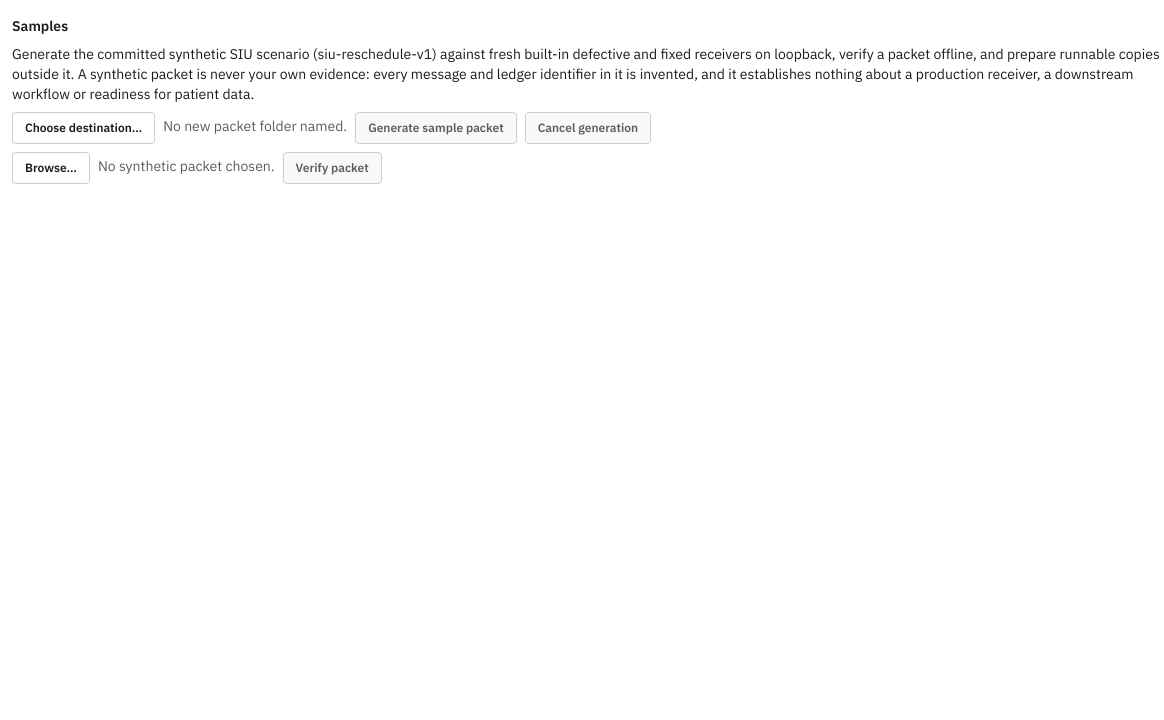
it: a chosen packet is verified read-only, and a changed or unsupported one is refused by name with nothing to prepare
expect the button "Verify packet" is disabled: met, box [283,152,382,184]
expect the text "No synthetic packet chosen." is shown: met, box [98,156,275,176]
Click the button "Browse…" at [51, 168], box [12,152,90,184]
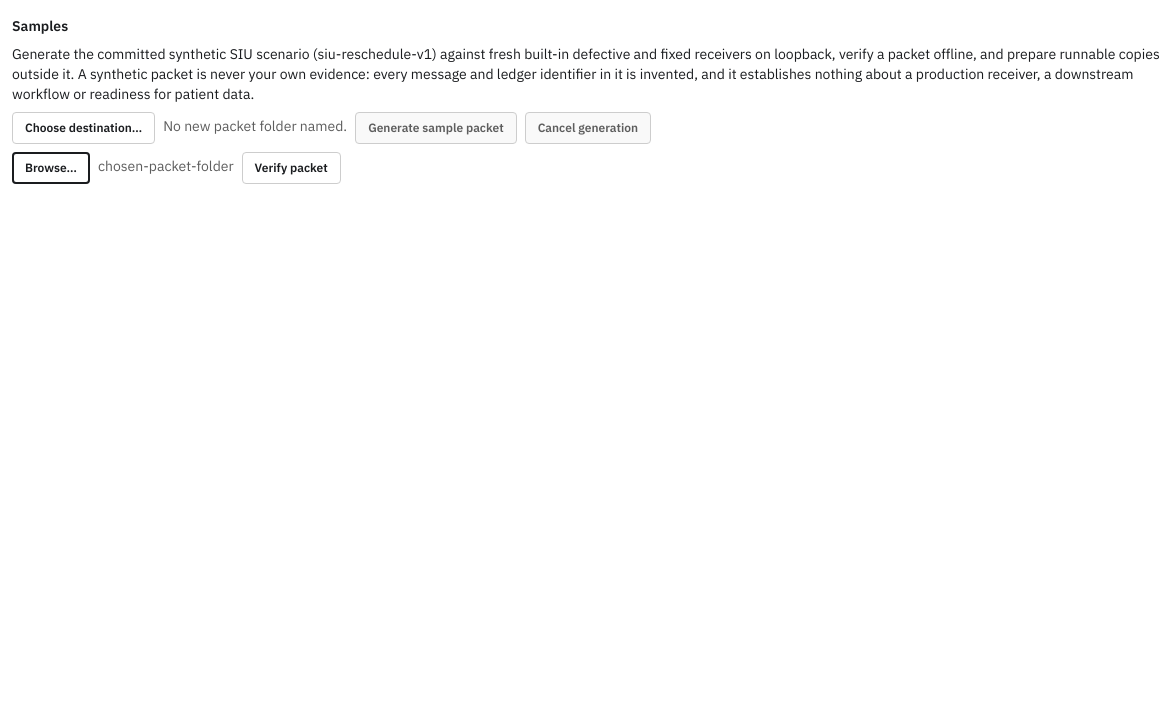
expect the text "chosen-packet-folder" is shown: met, box [98,156,234,176]
Click the button "Verify packet" at [291, 168], box [242,152,341,184]
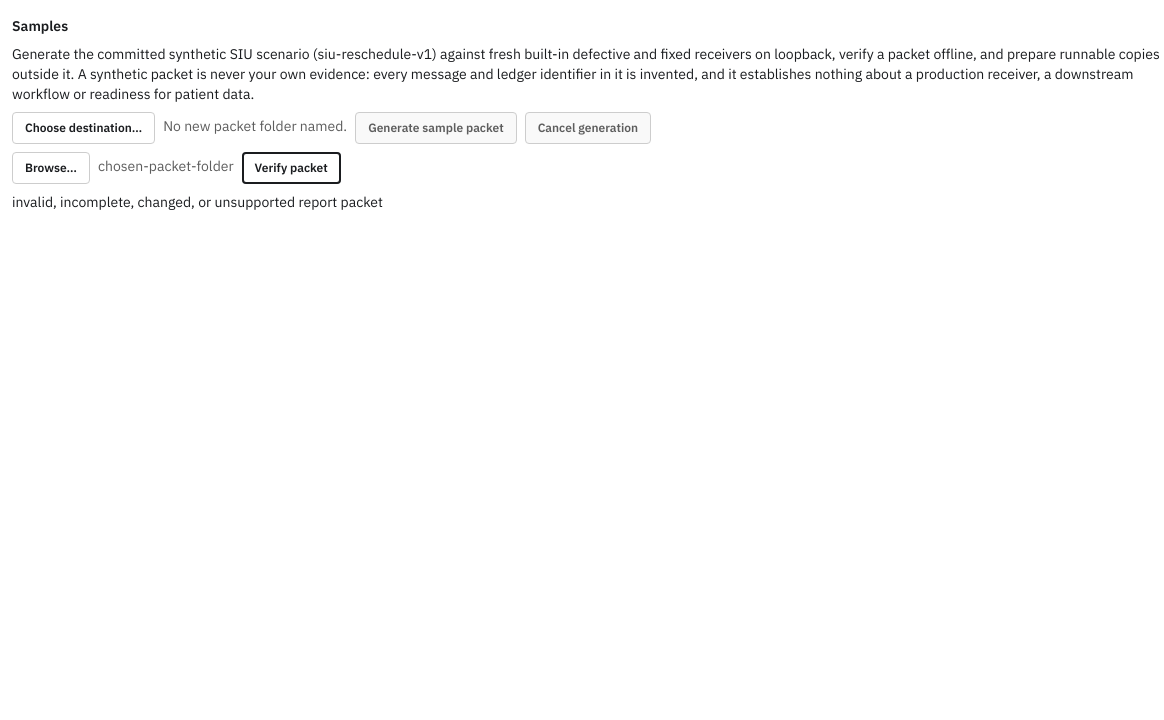
expect the text "Verified:" is not shown: met
expect the text "invalid, incomplete, changed, or unsupported report packet" is shown: met, box [12,193,383,211]
Press Enter
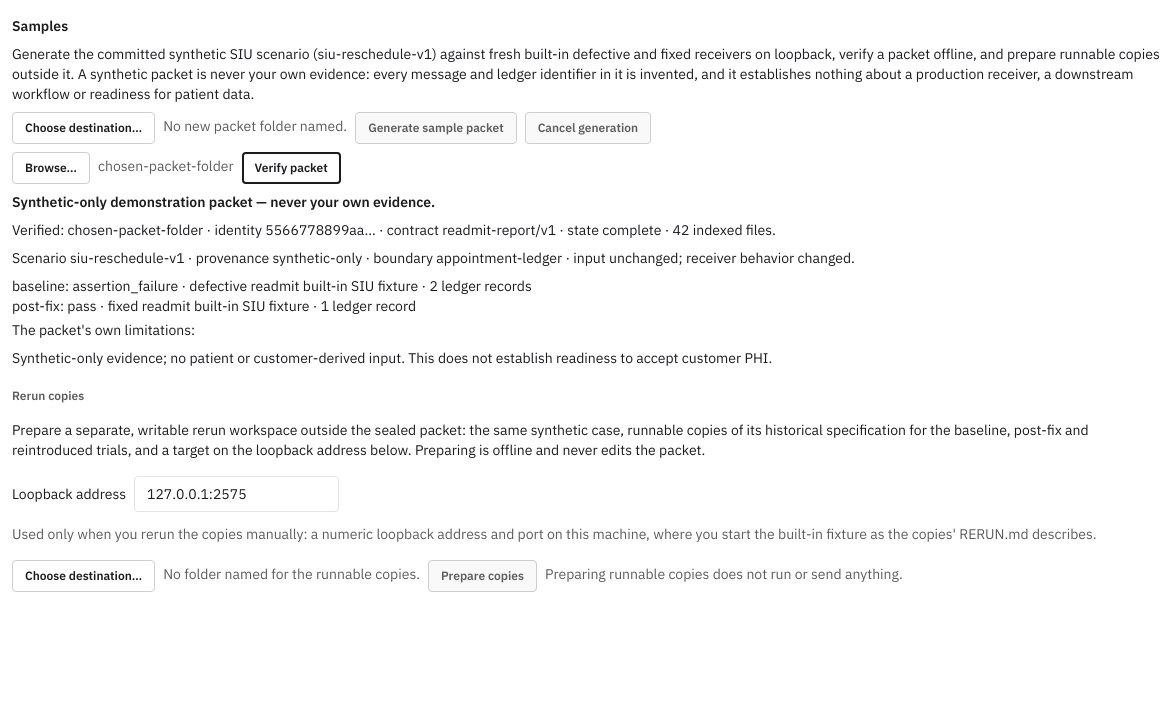
expect the text "Verified: chosen-packet-folder · identity 5566778899aa…" is shown: met, box [12,221,776,239]
expect the text "Synthetic-only demonstration packet — never your own evidence." is shown: met, box [12,193,435,211]
